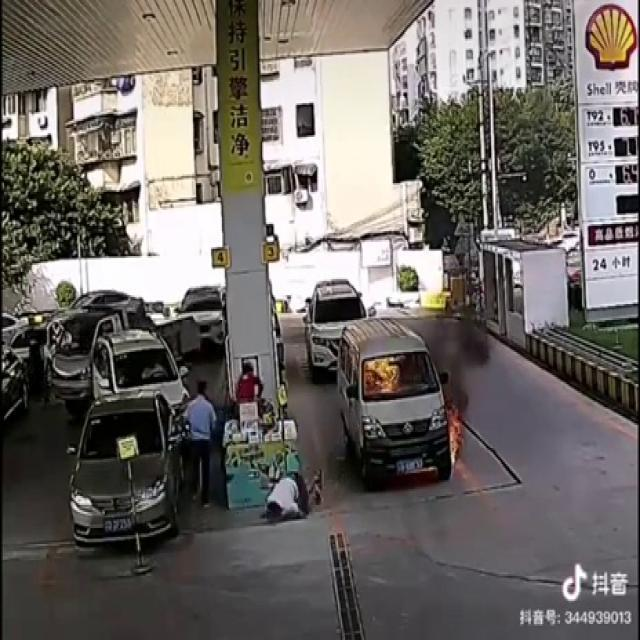Fire: (361, 348, 405, 396), (444, 399, 466, 469)
Smoke: (418, 295, 492, 398)
